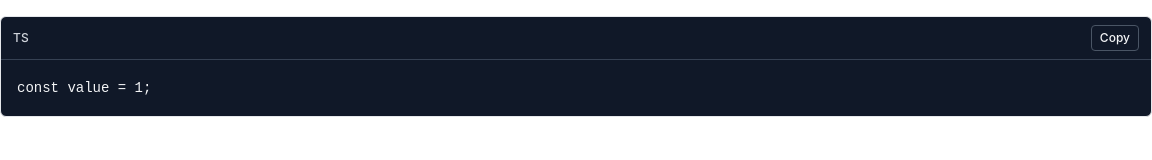
CodeBlock › クリップボードAPIでコピーし成功トーストを表示する
This screenshot has width=1152, height=160.
Click the button with aria-label "コードをコピー". click: (1115, 38)
box: [1091,25,1139,51]
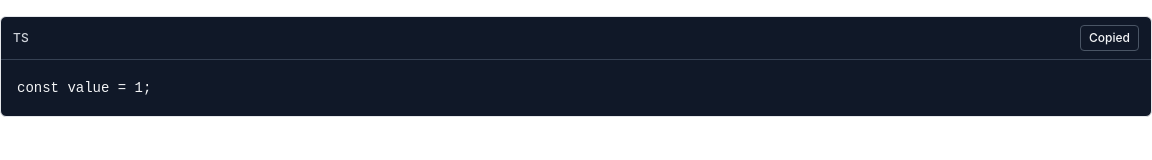
Check: the button "Copied" is shown, box [1080,25,1139,51]
